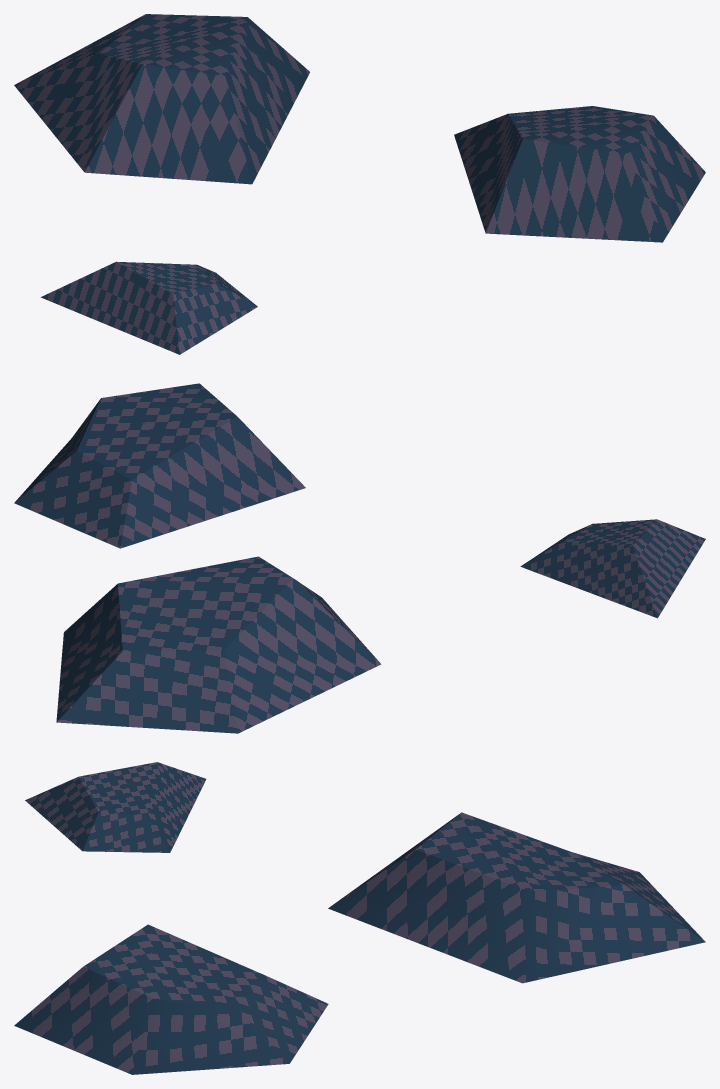
File: Mesh_Pebbles_01.gltf
3 renders of one model, top to bottom at view 1: azimuth 30°, elevation 25°; view 2: azimuth 150°, elevation 25°; view 3: azimuth 270°, elevation 25°, orthographic. The views are drawn at different scales.
Parts seen in each view (by area): view 1: Pebles_01; view 2: Pebles_01; view 3: Pebles_01.
Boxes of the visible parts, left/top/right/bottom form: Pebles_01: left=14, top=14, right=705, bottom=354; Pebles_01: left=14, top=383, right=705, bottom=733; Pebles_01: left=14, top=762, right=705, bottom=1074.
Size of the model in its own units: 0.7108 by 0.0862 by 0.7022.
